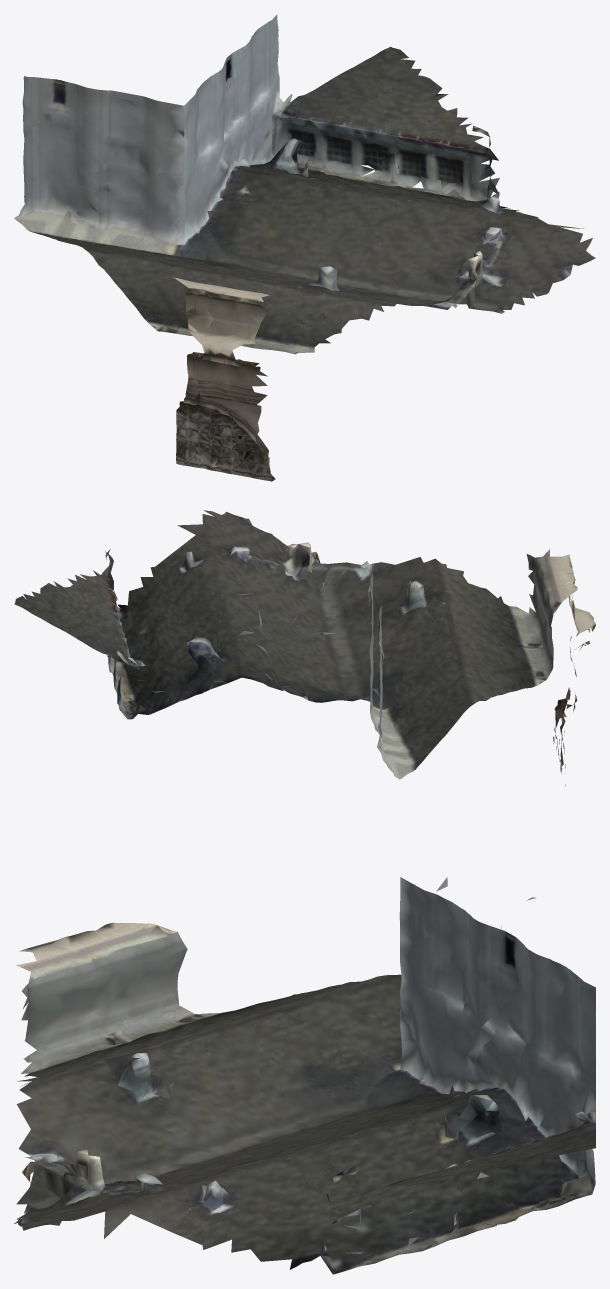
The picture shows the model from 3 angles, top to bottom: view 1: azimuth 30°, elevation 25°; view 2: azimuth 150°, elevation 25°; view 3: azimuth 270°, elevation 25°; orthographic projection. The views are drawn at different scales.
Size of the model in its own units: 17.46 by 11.26 by 16.06.
Materials: 1 (1 with a texture image).
